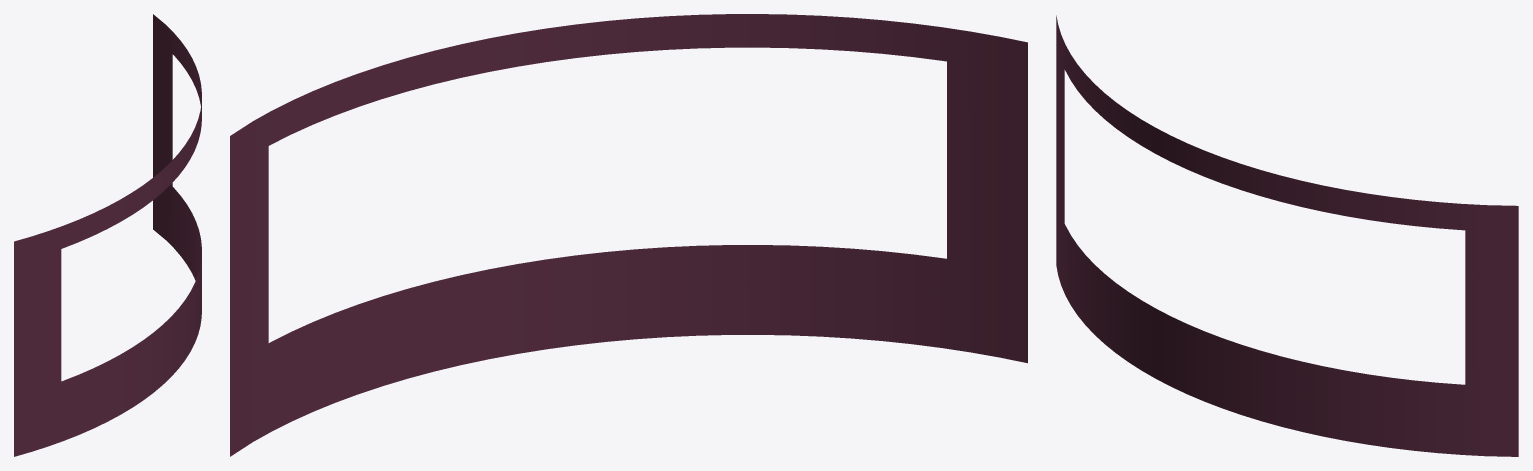
File: GS_Int_Side_Wall_Window.fbx
3 views of the same model, side by side, from view 1: azimuth 30°, elevation 25°; view 2: azimuth 150°, elevation 25°; view 3: azimuth 270°, elevation 25° (orthographic). The views are drawn at different scales.
Visible parts, largest first — view 1: GS_Int_Side_Wall_Window; view 2: GS_Int_Side_Wall_Window; view 3: GS_Int_Side_Wall_Window.
Boxes of the visible parts, x1=… form: GS_Int_Side_Wall_Window: x1=14, y1=14, x2=201, y2=456; GS_Int_Side_Wall_Window: x1=230, y1=14, x2=1027, y2=456; GS_Int_Side_Wall_Window: x1=1056, y1=15, x2=1518, y2=456.
Bounding box in the file's own units: 586 × 358 × 597.
